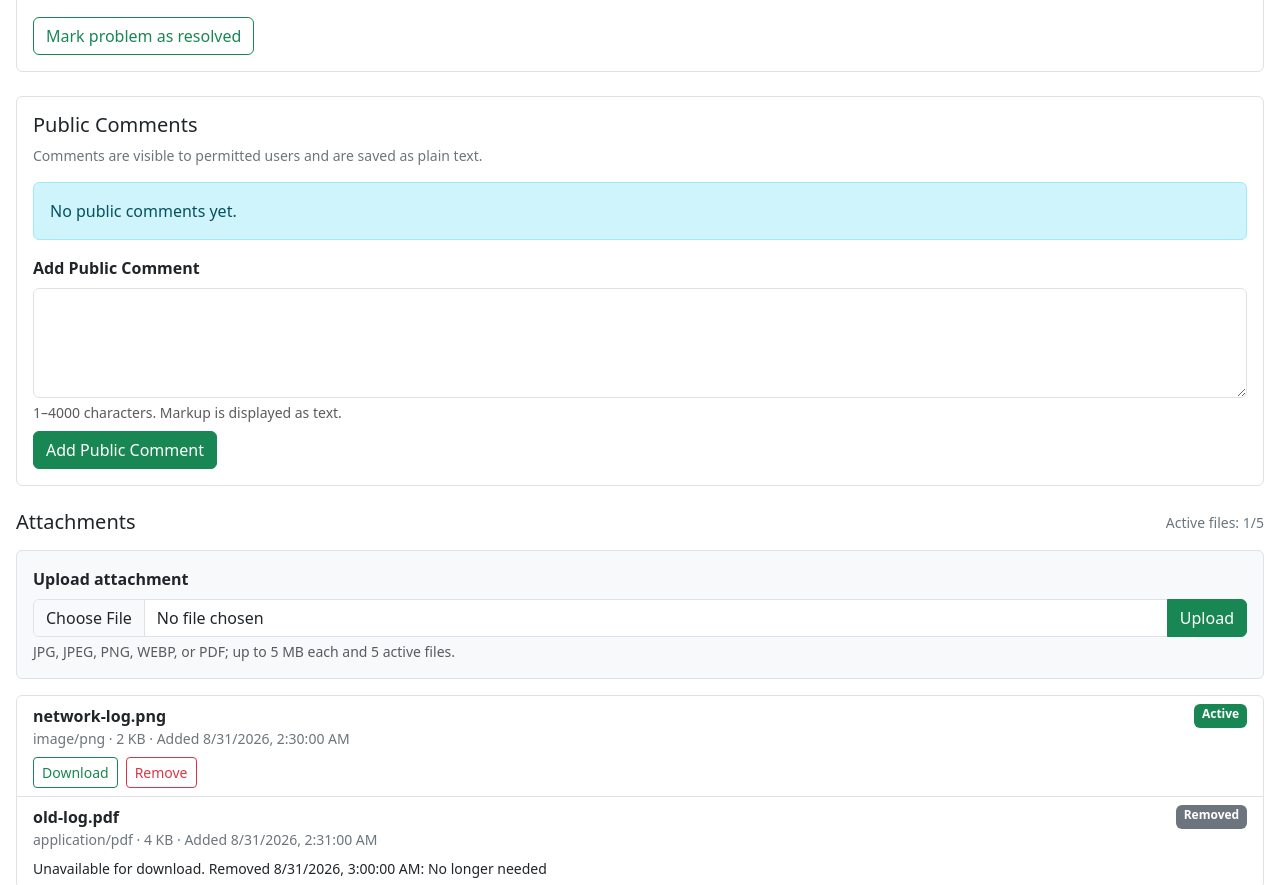
Test: Ticket Detail UI › shows validation feedback for an empty public comment
(page scrolled)
Click the button "Add Public Comment".
click(125, 450)  # box [33,431,217,469]
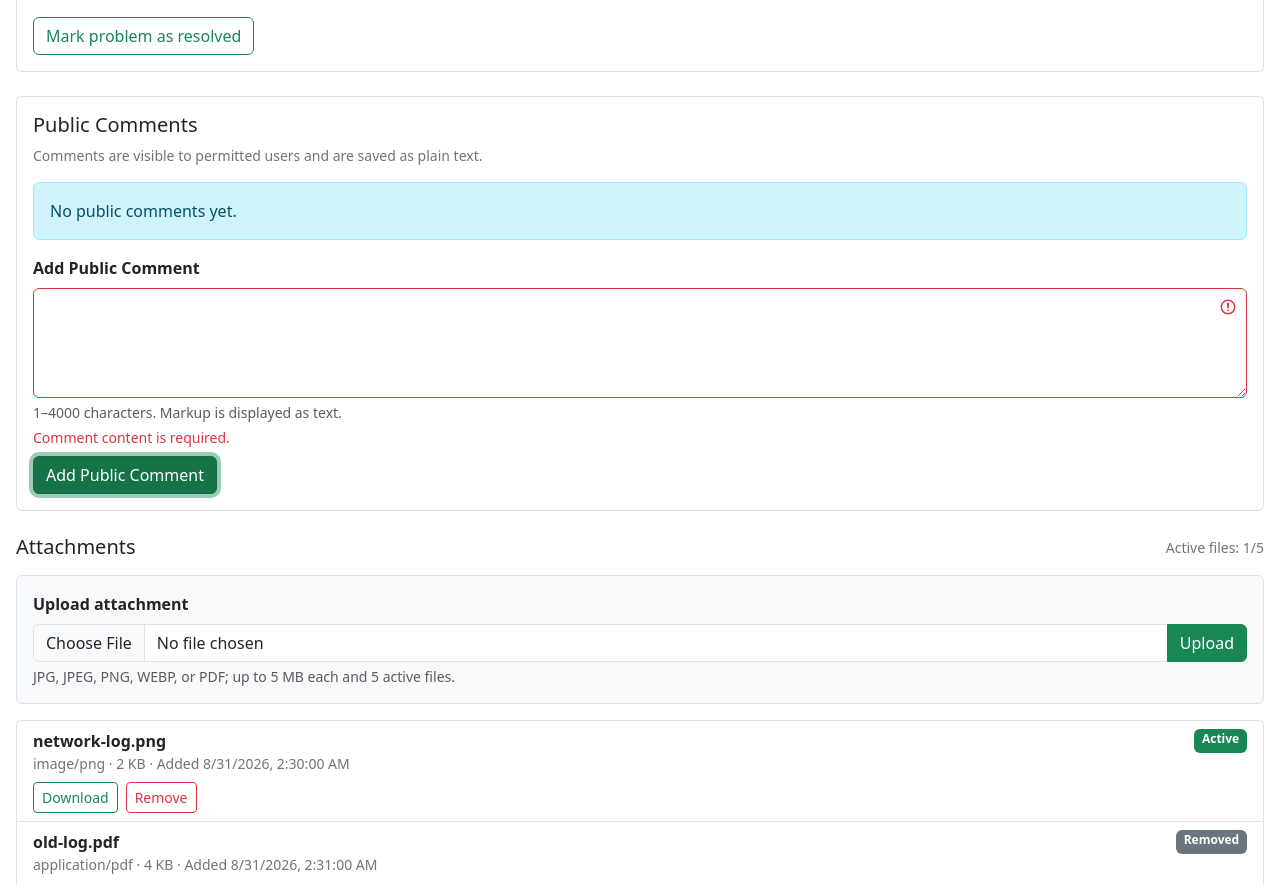
Expected: the message "Comment content is required." is shown, [33,428,230,447]
